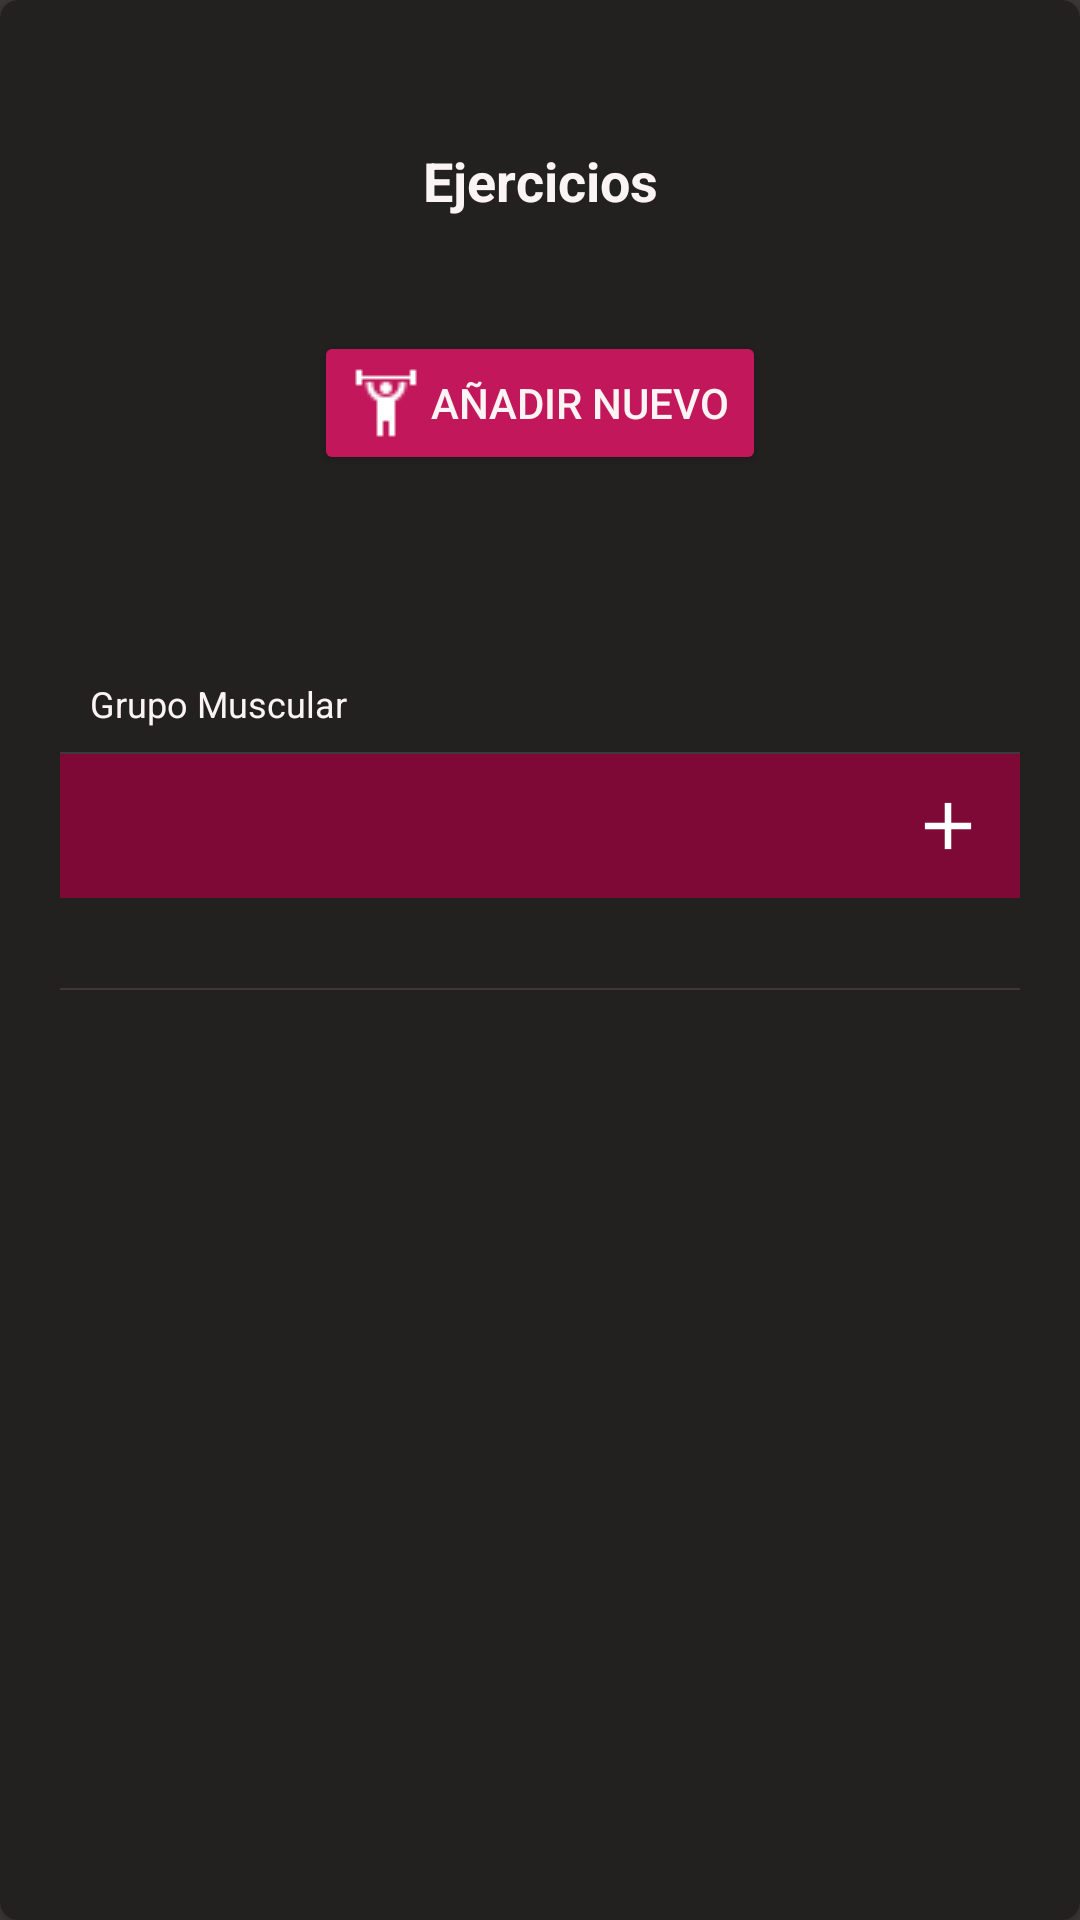

Screen size 1080w x 1920h. Icon name, then its center in pixels as [x,y]:
plus: [948,826]
